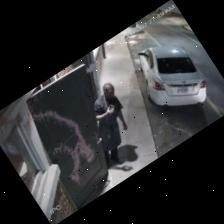person: (95, 83, 127, 166)
